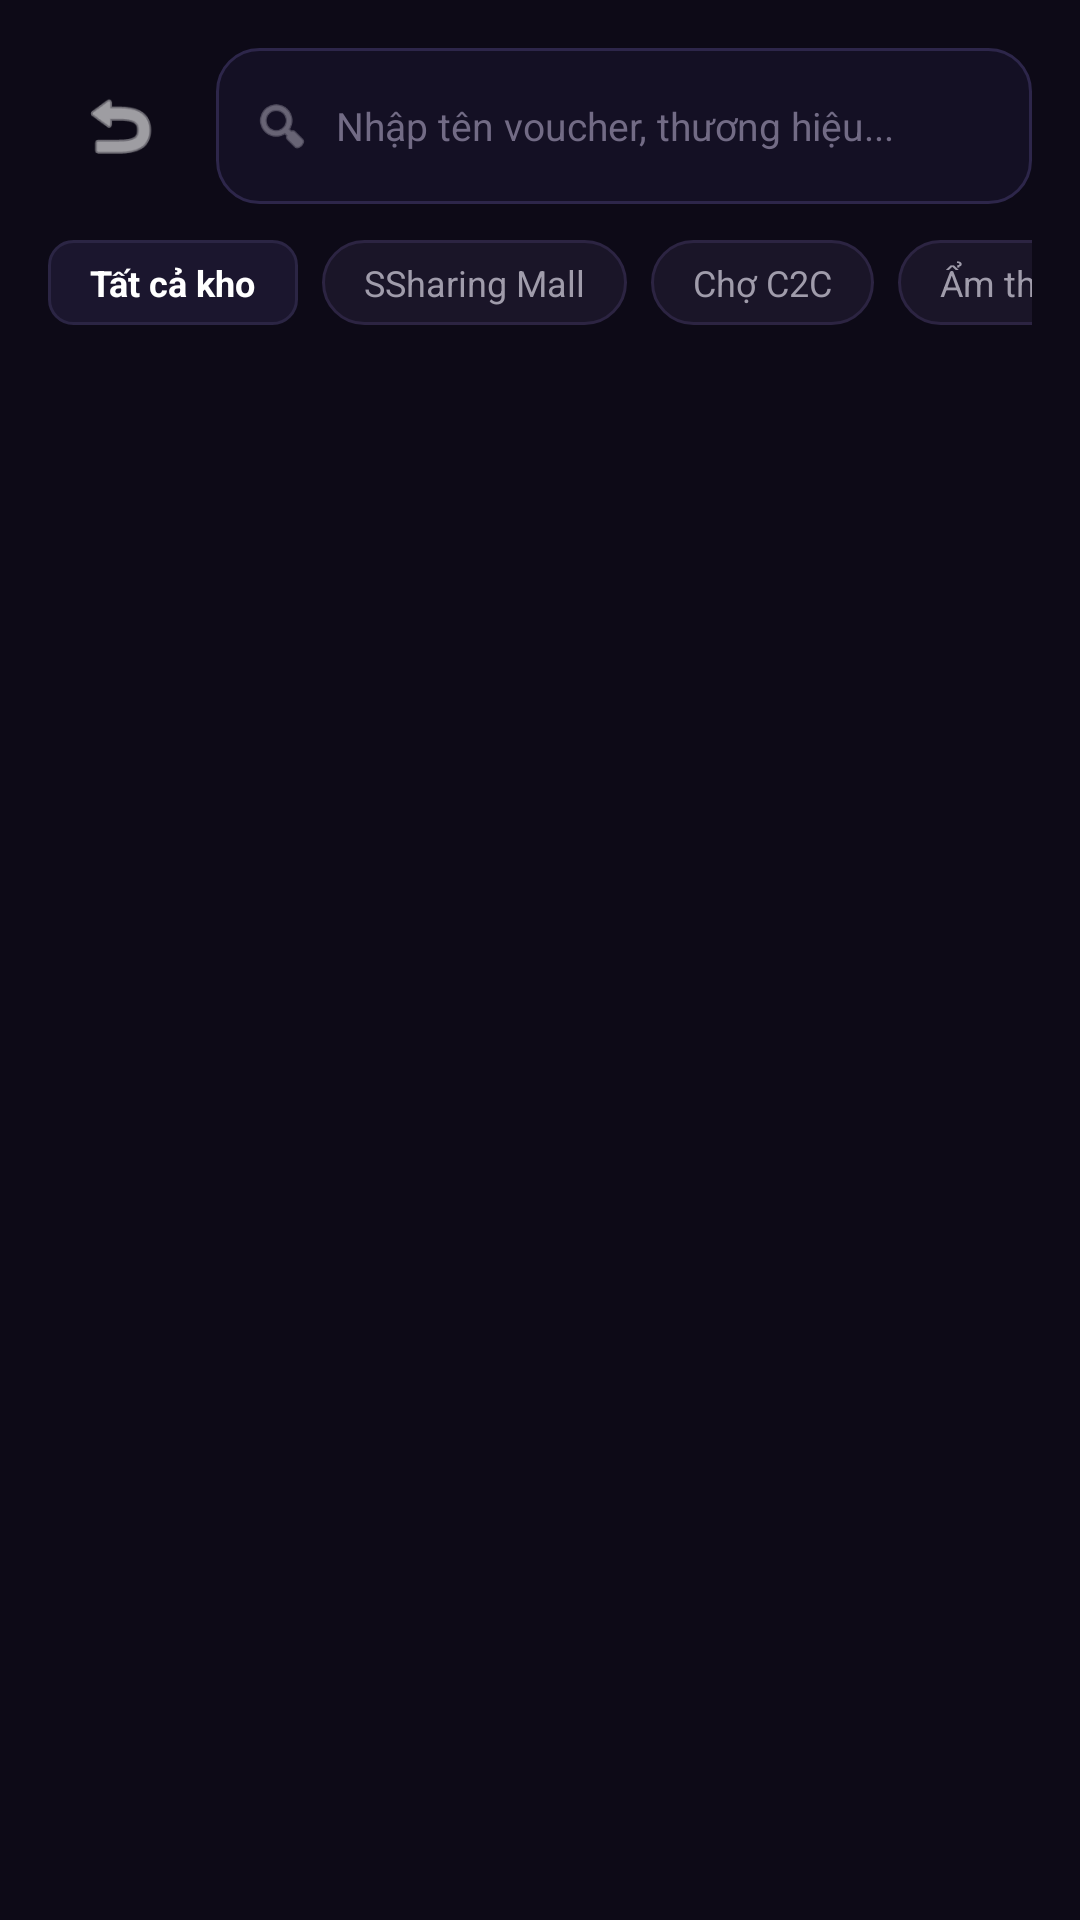

Where to tap for icons on this 1080 × 1920 app screen, as point (x, y):
Icon Tìm Kiếm: point (282, 126)
Quay lại: point (121, 126)
